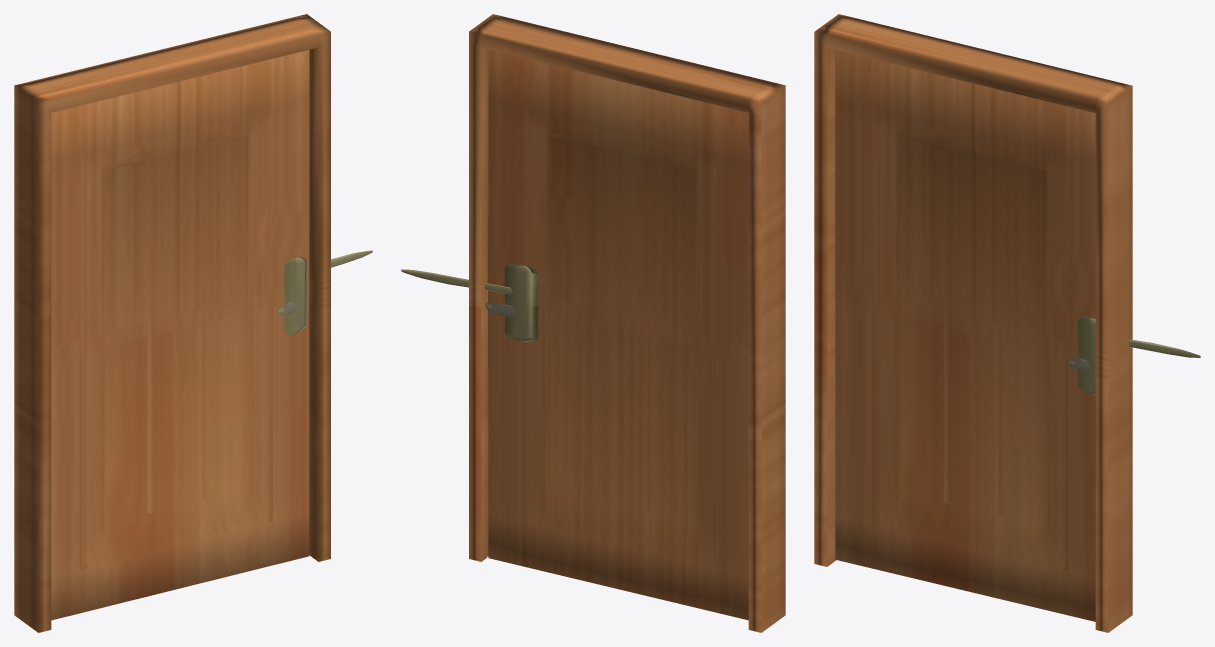
The model's file is Door_true.fbx.
3 views of the same model, side by side, from view 1: azimuth 30°, elevation 25°; view 2: azimuth 150°, elevation 25°; view 3: azimuth 330°, elevation 25° (orthographic).
Visible parts, largest first — view 1: DoorBoddy, OutBoddy, Locker.001; view 2: DoorBoddy, OutBoddy, Locker; view 3: DoorBoddy, OutBoddy, Locker.001, Locker.
Boxes of the visible parts, x1,y1,x2,y2 form: DoorBoddy: (51, 50, 309, 620); OutBoddy: (14, 14, 330, 632); Locker.001: (277, 257, 307, 335); DoorBoddy: (488, 49, 748, 620); OutBoddy: (469, 14, 785, 632); Locker: (401, 264, 538, 342); DoorBoddy: (835, 50, 1095, 621); OutBoddy: (814, 14, 1132, 632); Locker.001: (1068, 317, 1095, 394); Locker: (1129, 339, 1200, 357).
Bounding box in the file's own units: 882 × 1242 × 108.
Materials: 7 (7 with a texture image).
